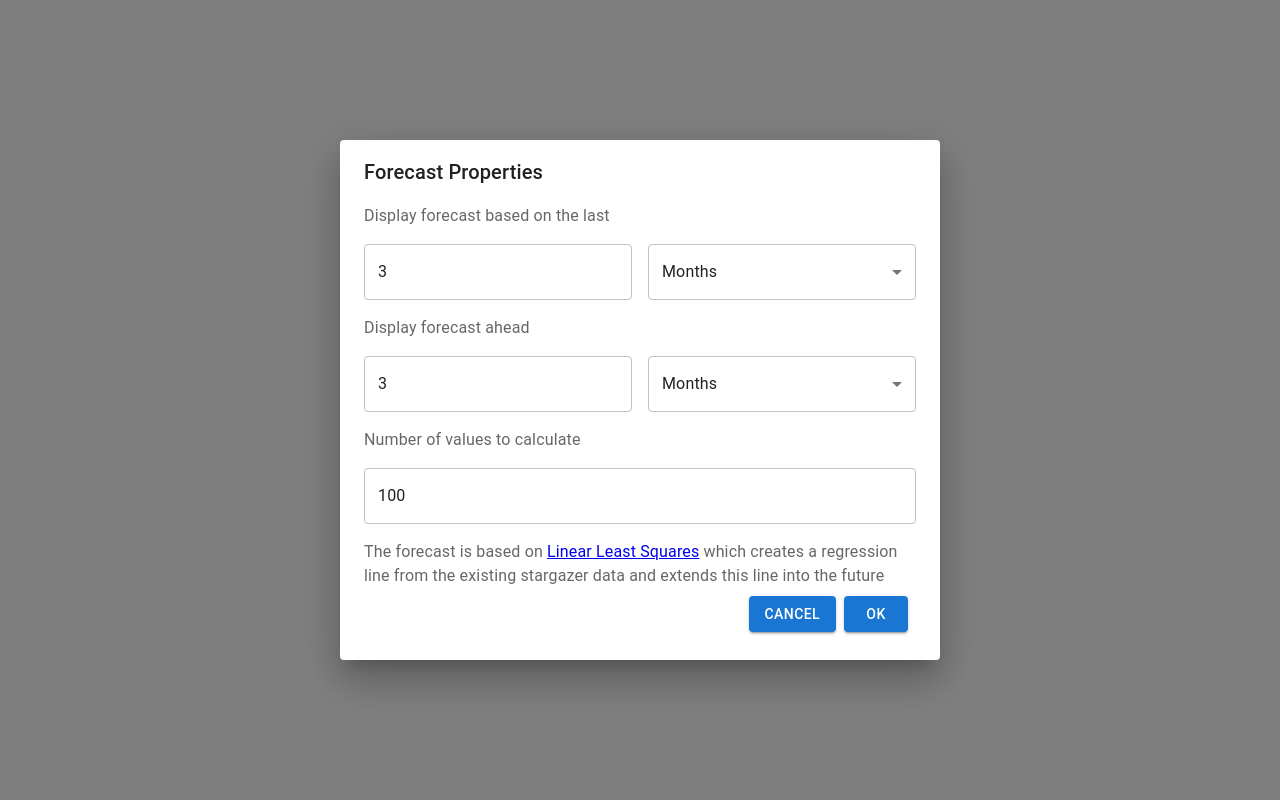
ForecastForm › checks point count text box validations
The width and height of the screenshot is (1280, 800).
Replace the text in the number field with test id "pointCount" with "0": coordinates (640, 496) [364,468,916,524]
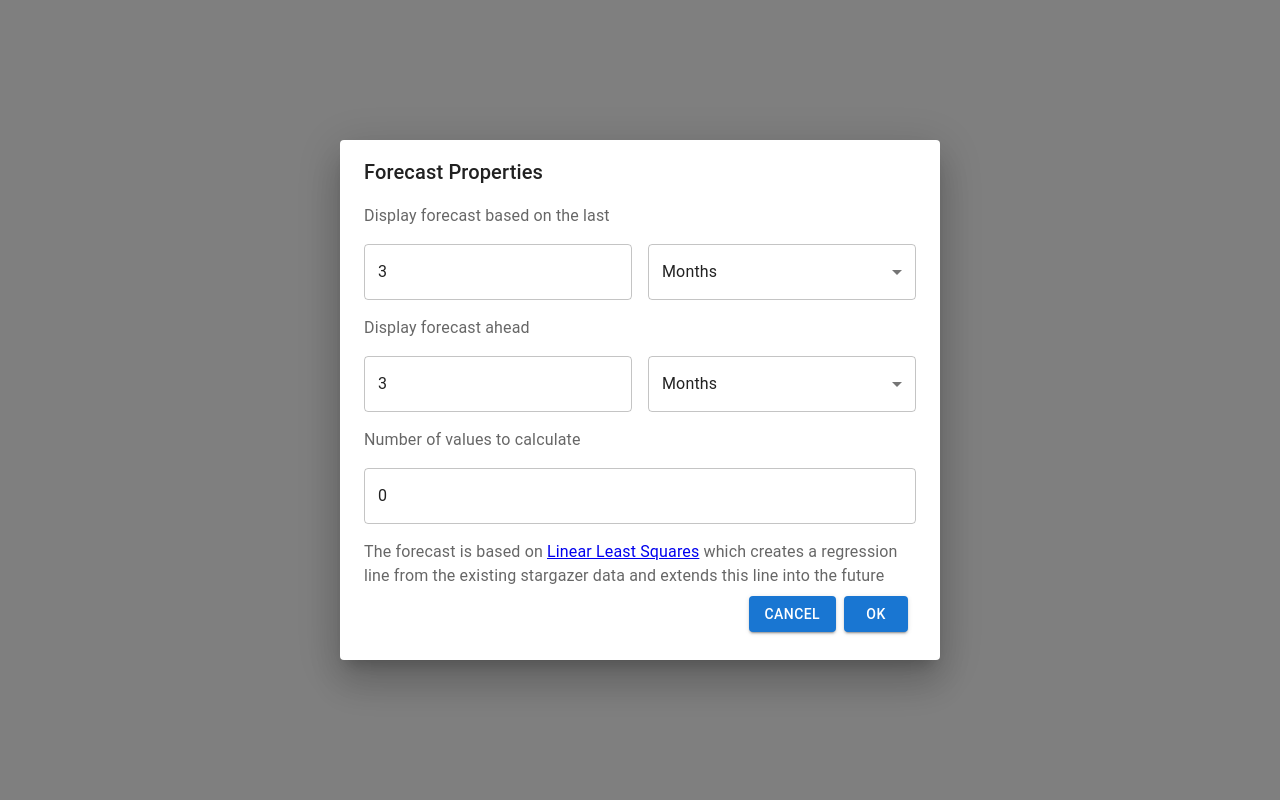
Click the button "Ok": coordinates (876, 614) [844,596,908,632]
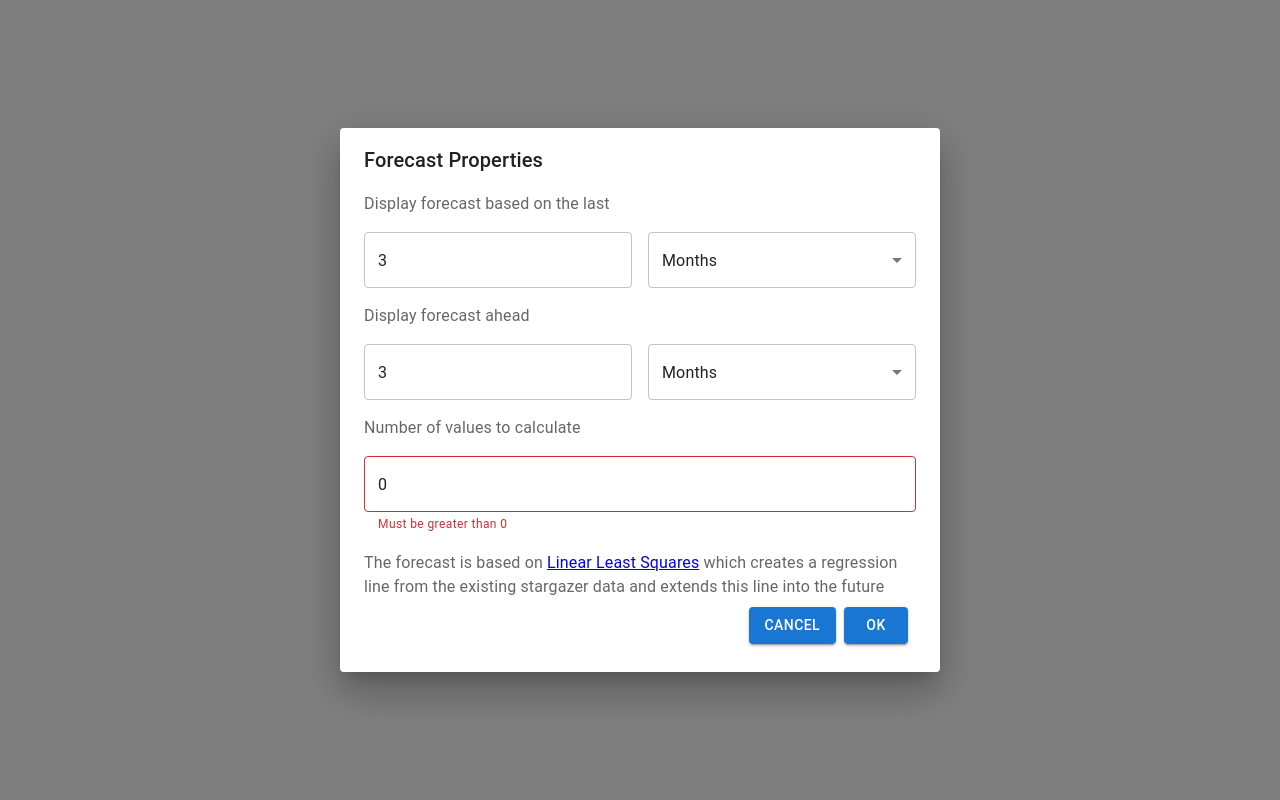
Now the text "Must be greater than 0" is shown, box [378,517,507,531]
Replace the text in the number field with test id "pointCount" with "501": coordinates (640, 484) [364,456,916,512]
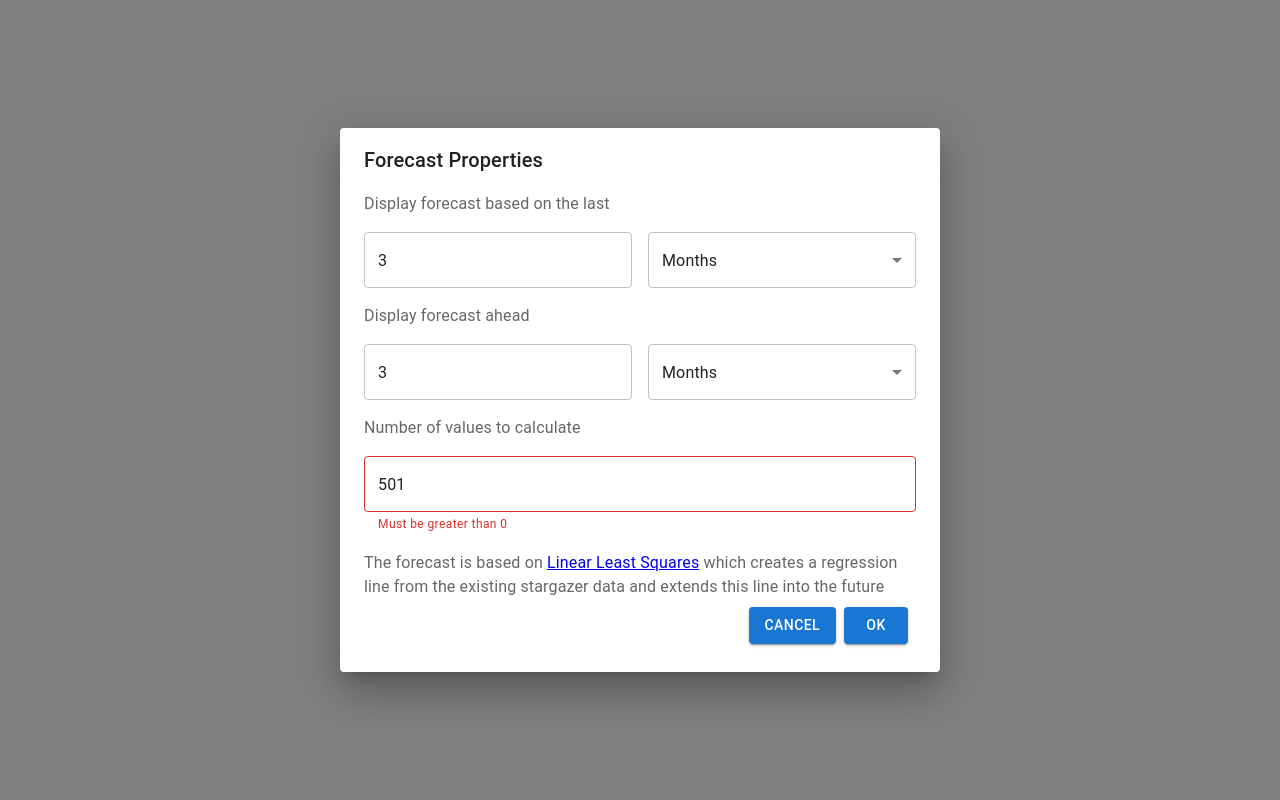
Click the button "Ok": coordinates (876, 625) [844,607,908,644]
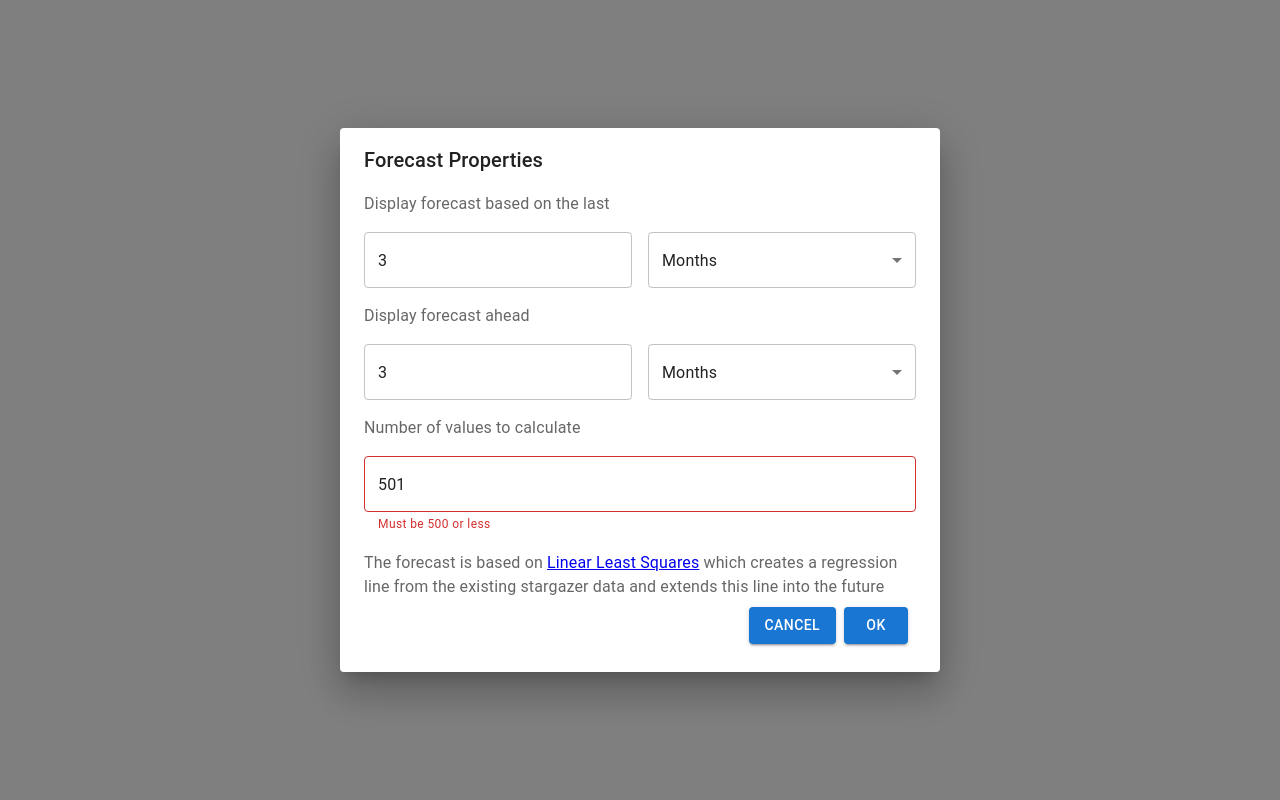
Now the text "Must be 500 or less" is shown, box [378,517,491,531]
Clear the number field with test id "pointCount": coordinates (640, 484) [364,456,916,512]
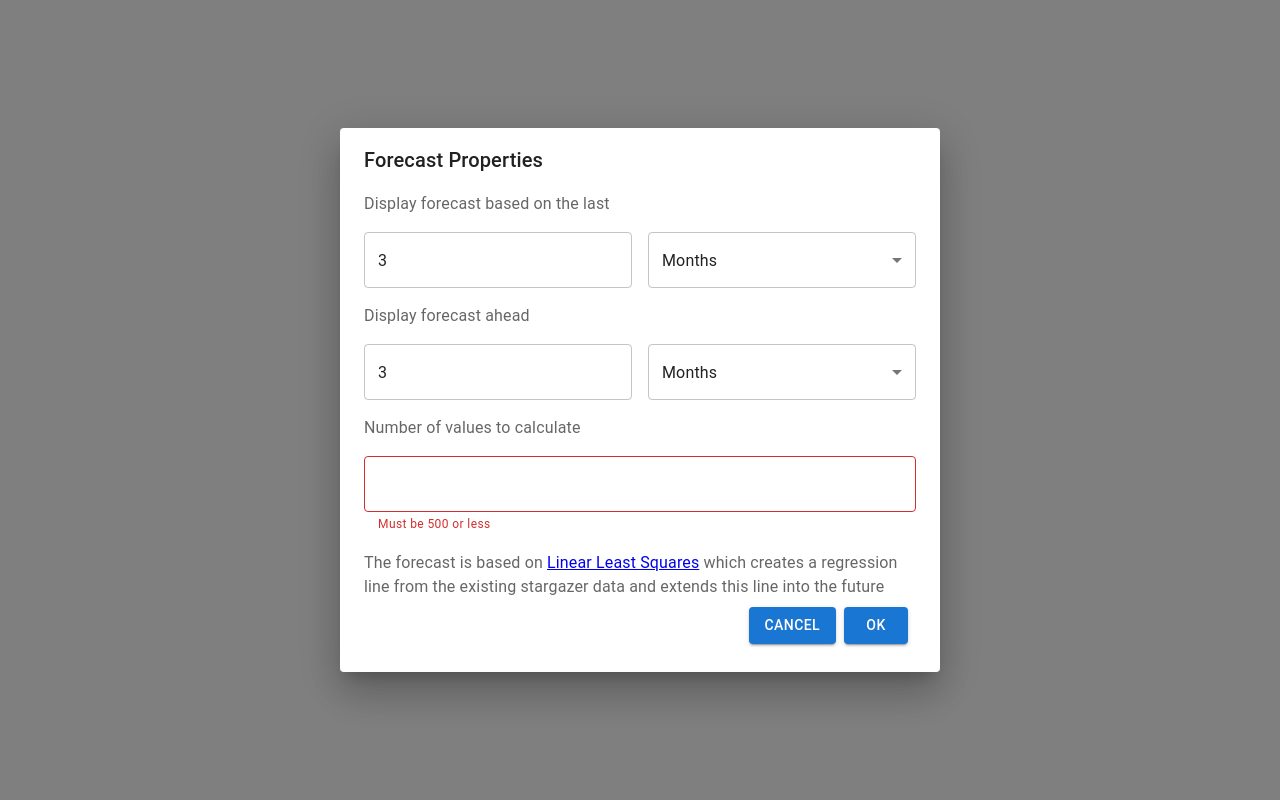
Click the button "Ok": coordinates (876, 625) [844,607,908,644]
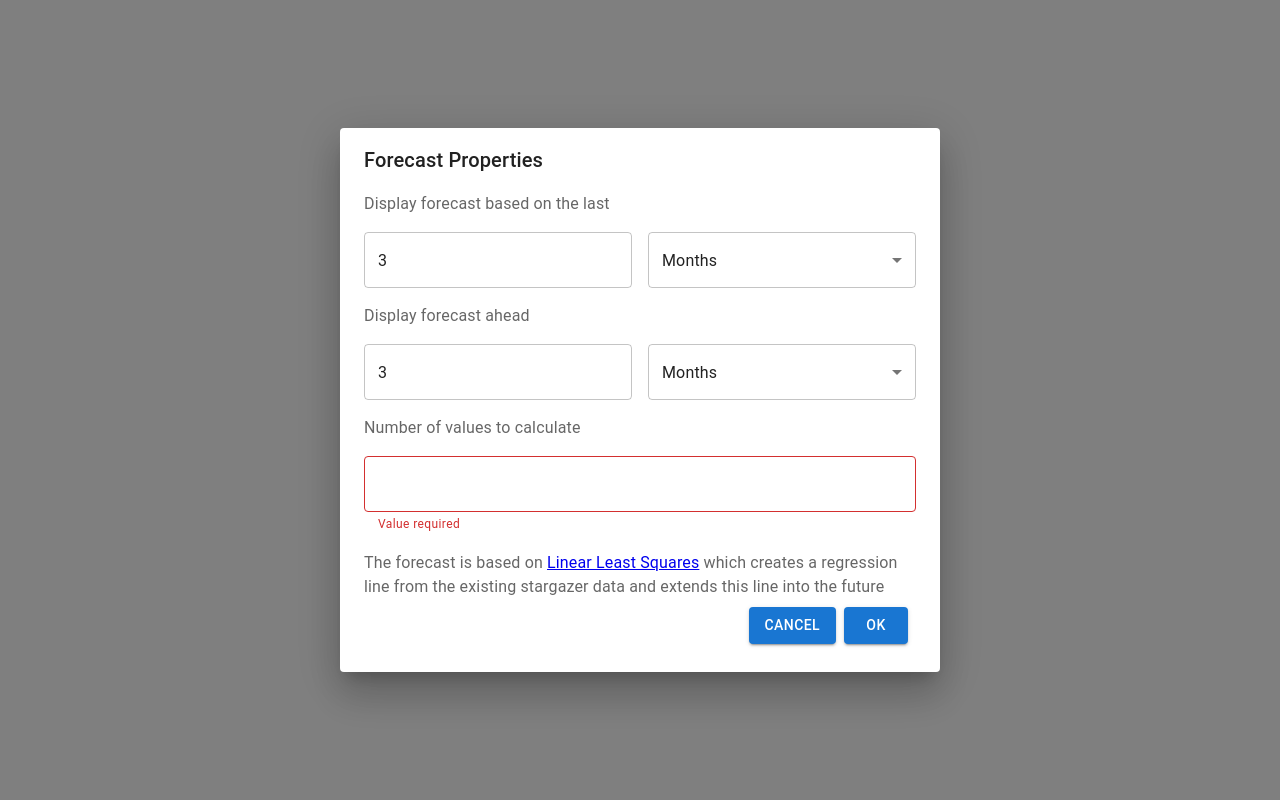
Now the text "Value required" is shown, box [378,517,460,531]
